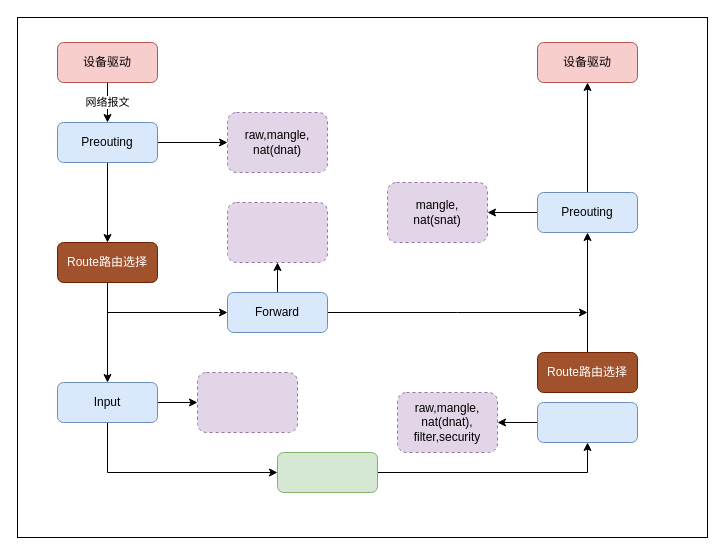
The diagram is 725 pixels wide and 555 high, and some of its shapes have lost their labels. Here are the shapes that lost their labels. From the top down, the box of each, then its label:
(226, 202, 328, 262): mangle, filter security
(196, 372, 298, 432): mangle, nat(dnat), filter
(536, 402, 638, 442): Output
(276, 452, 378, 492): 本地进程
